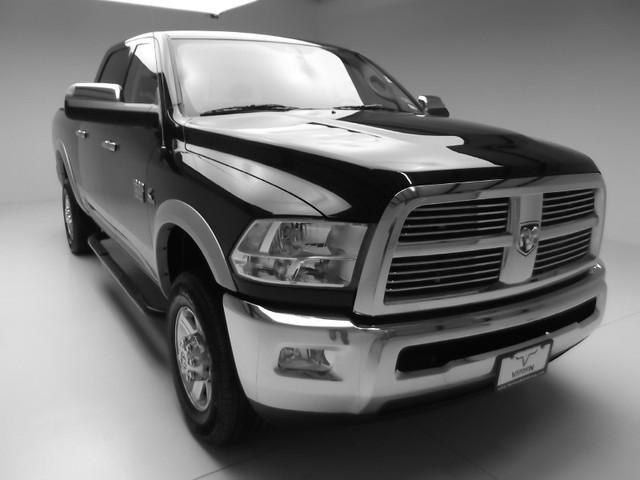car: (51, 29, 612, 446)
